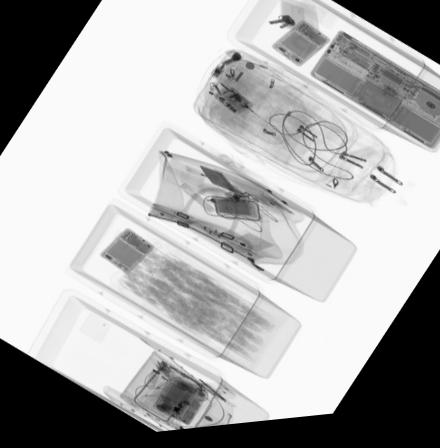Lighter: (220, 59, 244, 72)
